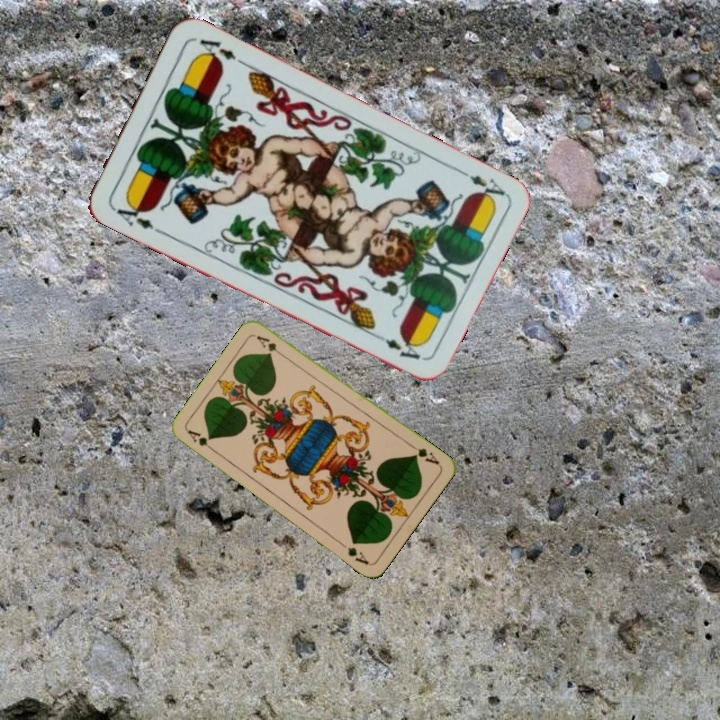EA: (453, 164, 508, 205), (108, 196, 156, 232)
GA: (183, 426, 218, 455), (406, 440, 442, 468)
